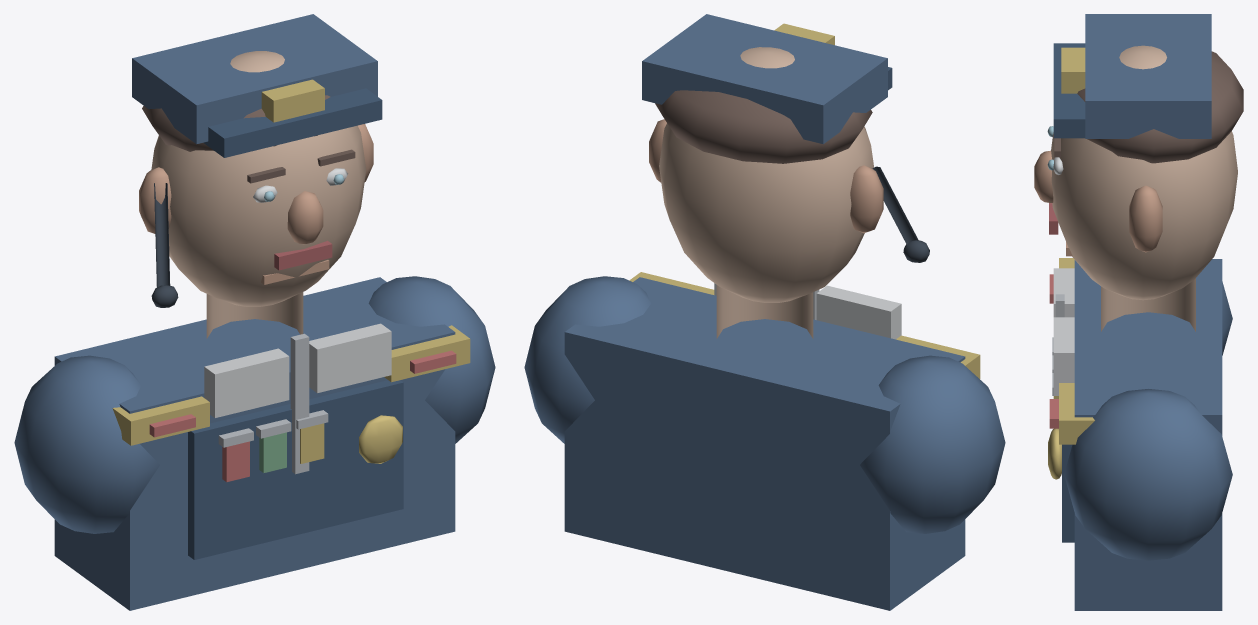
Rendered from default_commander.glb.
3 views of the same model, side by side, from view 1: azimuth 30°, elevation 25°; view 2: azimuth 150°, elevation 25°; view 3: azimuth 270°, elevation 25° (orthographic).
Visible parts, largest first — view 1: CommanderBust; view 2: CommanderBust; view 3: CommanderBust.
Boxes of the visible parts, x1,y1,x2,y2 form: CommanderBust: (14, 14, 495, 610); CommanderBust: (524, 14, 1005, 610); CommanderBust: (1034, 14, 1243, 610).
Bounding box in the file's own units: 1.96 × 2.01 × 0.7945.
